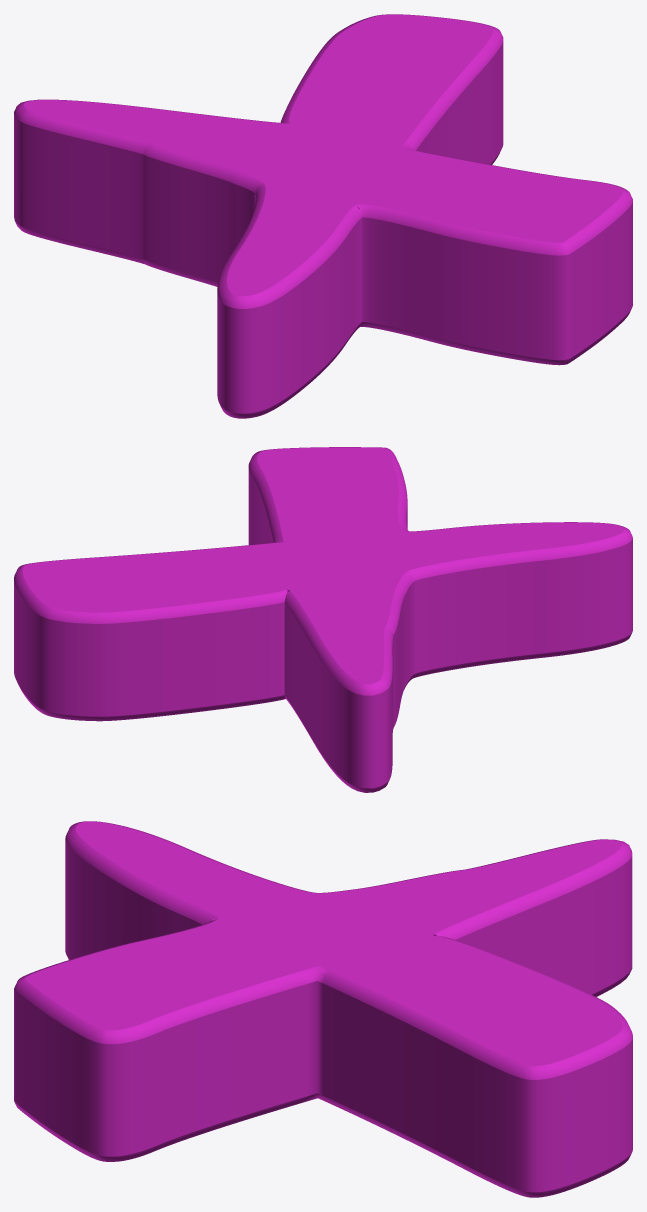
File: Letter_X.fbx
3 views of the same model, one above another, from view 1: azimuth 30°, elevation 25°; view 2: azimuth 150°, elevation 25°; view 3: azimuth 270°, elevation 25° (orthographic). The views are drawn at different scales.
Visible parts, largest first — view 1: Letter_X; view 2: Letter_X; view 3: Letter_X.
Part boxes in pixels (x1,y1,x2,y2): Letter_X: (14,14,632,418); Letter_X: (14,447,632,792); Letter_X: (14,821,632,1197).
Size of the model in its own units: 0.5808 by 0.14 by 0.599.
